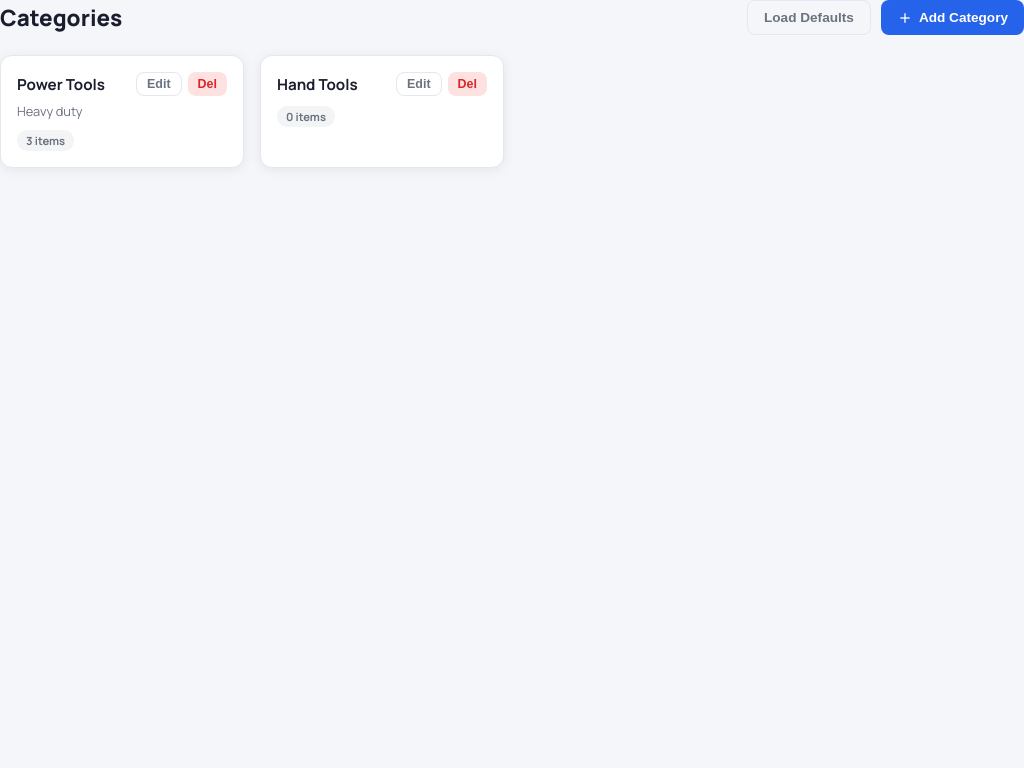
Test: CategoriesPage › opens the add modal on "Add Category" click
This screenshot has width=1024, height=768.
Expected: the text "Power Tools" is shown, [17,74,105,94]
Click the button "Add Category". click: (952,18)
box: [881,0,1023,35]
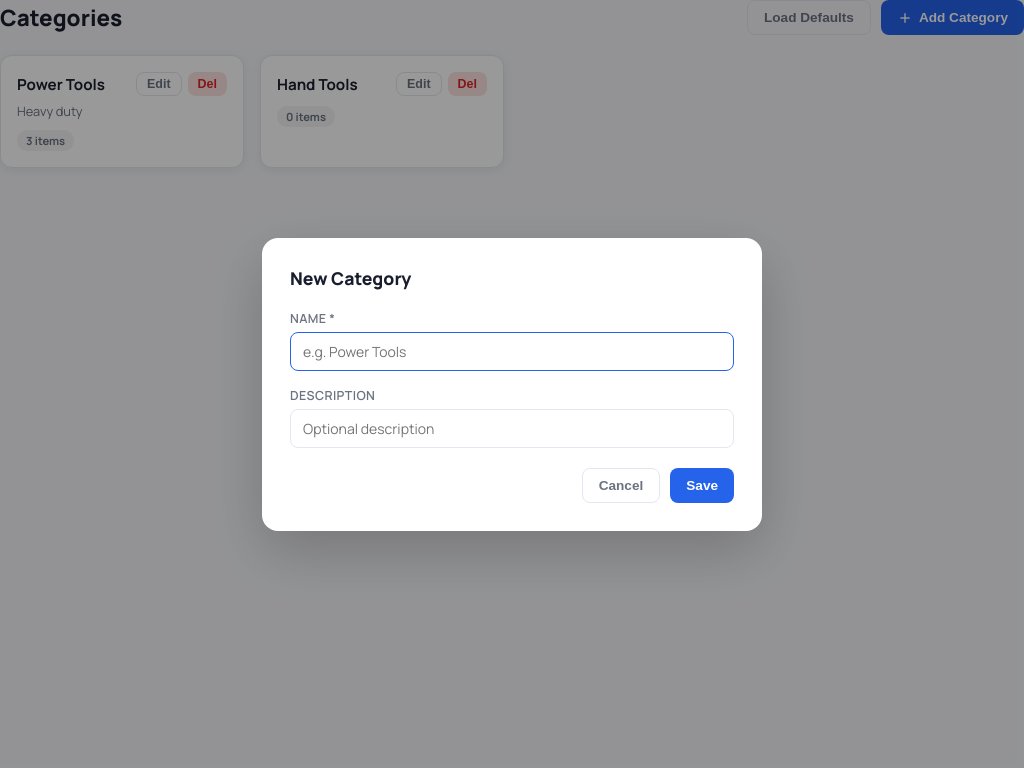
Result: the text "New Category" is shown at [290,266,411,290]
Result: the field with placeholder "e.g. Power Tools" is shown at [290,332,734,370]
